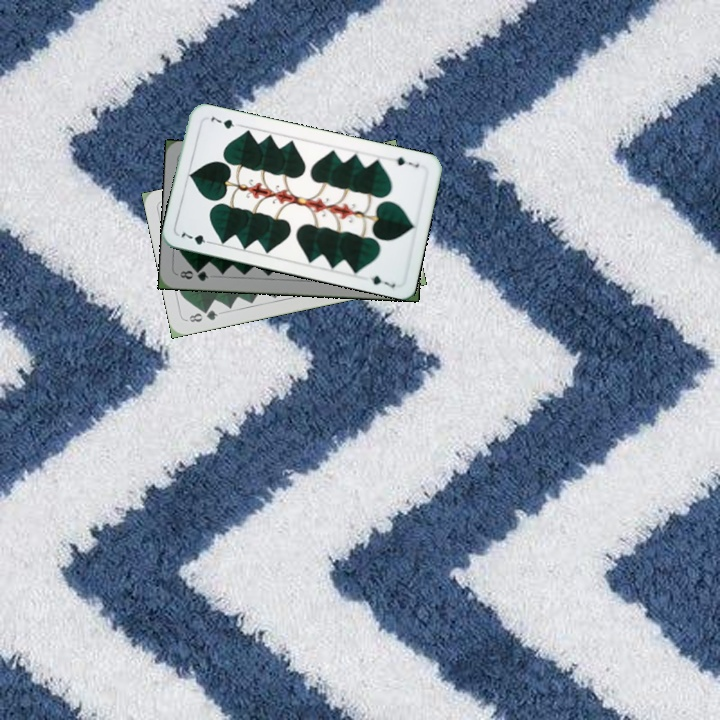G7: (177, 227, 216, 247), (387, 153, 422, 170)
G8: (185, 306, 220, 325), (176, 266, 211, 284)
